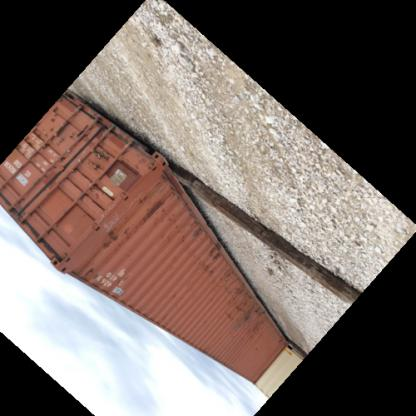Damage: (231, 290, 264, 332), (140, 192, 172, 226), (106, 224, 134, 254), (178, 218, 210, 242), (202, 242, 226, 272), (80, 122, 107, 146), (222, 272, 242, 292)
